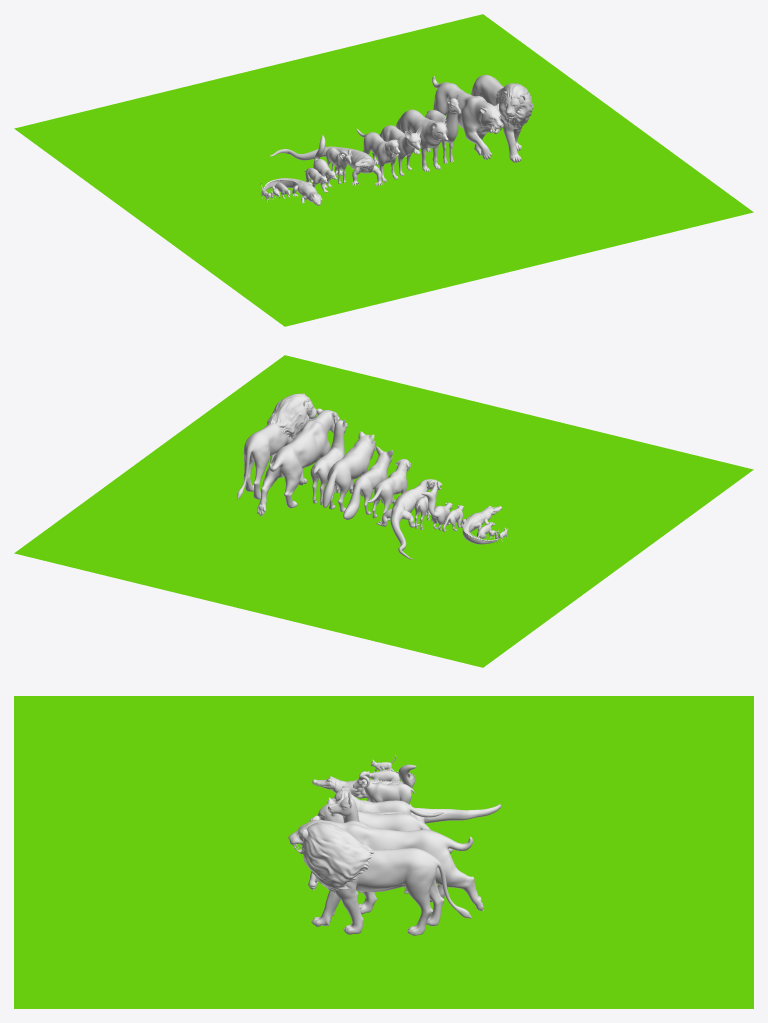
3 views of the same model, one above another, from view 1: azimuth 30°, elevation 25°; view 2: azimuth 150°, elevation 25°; view 3: azimuth 270°, elevation 25° (orthographic). The views are drawn at different scales.
Parts seen in each view (by area): view 1: Plane, saber_toothed_tiger.1, lion.1, wolf.2, komodo_dragon.1, dog.1, fox.1, alpaca.2, alligator.1, ram.1; view 2: Plane, lion.1, saber_toothed_tiger.1, wolf.2, komodo_dragon.1, fox.1, alpaca.2, dog.1, alligator.1; view 3: Plane, lion.1, saber_toothed_tiger.1, wolf.2, ram.1, dog.1, komodo_dragon.1, alligator.1.
Boxes of the visible parts, left/top/right/bottom form: Plane: left=14, top=14, right=753, bottom=326; saber_toothed_tiger.1: left=432, top=76, right=503, bottom=159; lion.1: left=471, top=74, right=533, bottom=162; wolf.2: left=396, top=109, right=448, bottom=172; komodo_dragon.1: left=270, top=146, right=383, bottom=186; dog.1: left=356, top=129, right=400, bottom=182; fox.1: left=379, top=125, right=421, bottom=175; alpaca.2: left=425, top=94, right=461, bottom=163; alligator.1: left=263, top=177, right=322, bottom=205; ram.1: left=326, top=147, right=352, bottom=184; Plane: left=14, top=355, right=753, bottom=667; lion.1: left=237, top=393, right=317, bottom=499; saber_toothed_tiger.1: left=257, top=408, right=340, bottom=516; wolf.2: left=322, top=431, right=375, bottom=512; komodo_dragon.1: left=376, top=479, right=442, bottom=559; fox.1: left=343, top=446, right=392, bottom=519; alpaca.2: left=310, top=417, right=347, bottom=505; dog.1: left=367, top=459, right=410, bottom=520; alligator.1: left=460, top=506, right=502, bottom=544; Plane: left=14, top=696, right=753, bottom=1008; lion.1: left=297, top=822, right=471, bottom=935; saber_toothed_tiger.1: left=288, top=815, right=483, bottom=914; wolf.2: left=310, top=797, right=430, bottom=831; ram.1: left=353, top=771, right=414, bottom=805; dog.1: left=327, top=789, right=443, bottom=817; komodo_dragon.1: left=341, top=785, right=501, bottom=823; alligator.1: left=312, top=771, right=414, bottom=797.
Bounding box in the file's own units: 8978 × 1363 × 8978.
